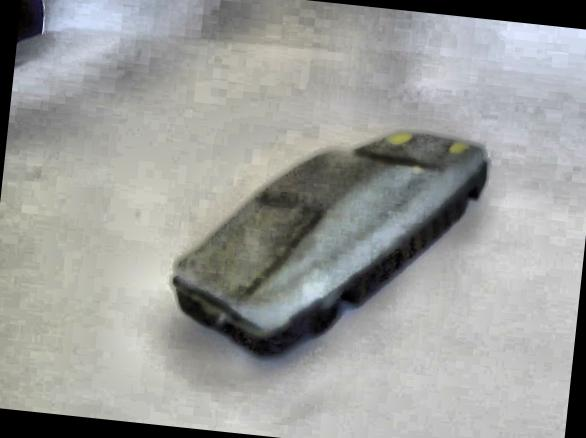normal_car: (151, 95, 502, 386)
